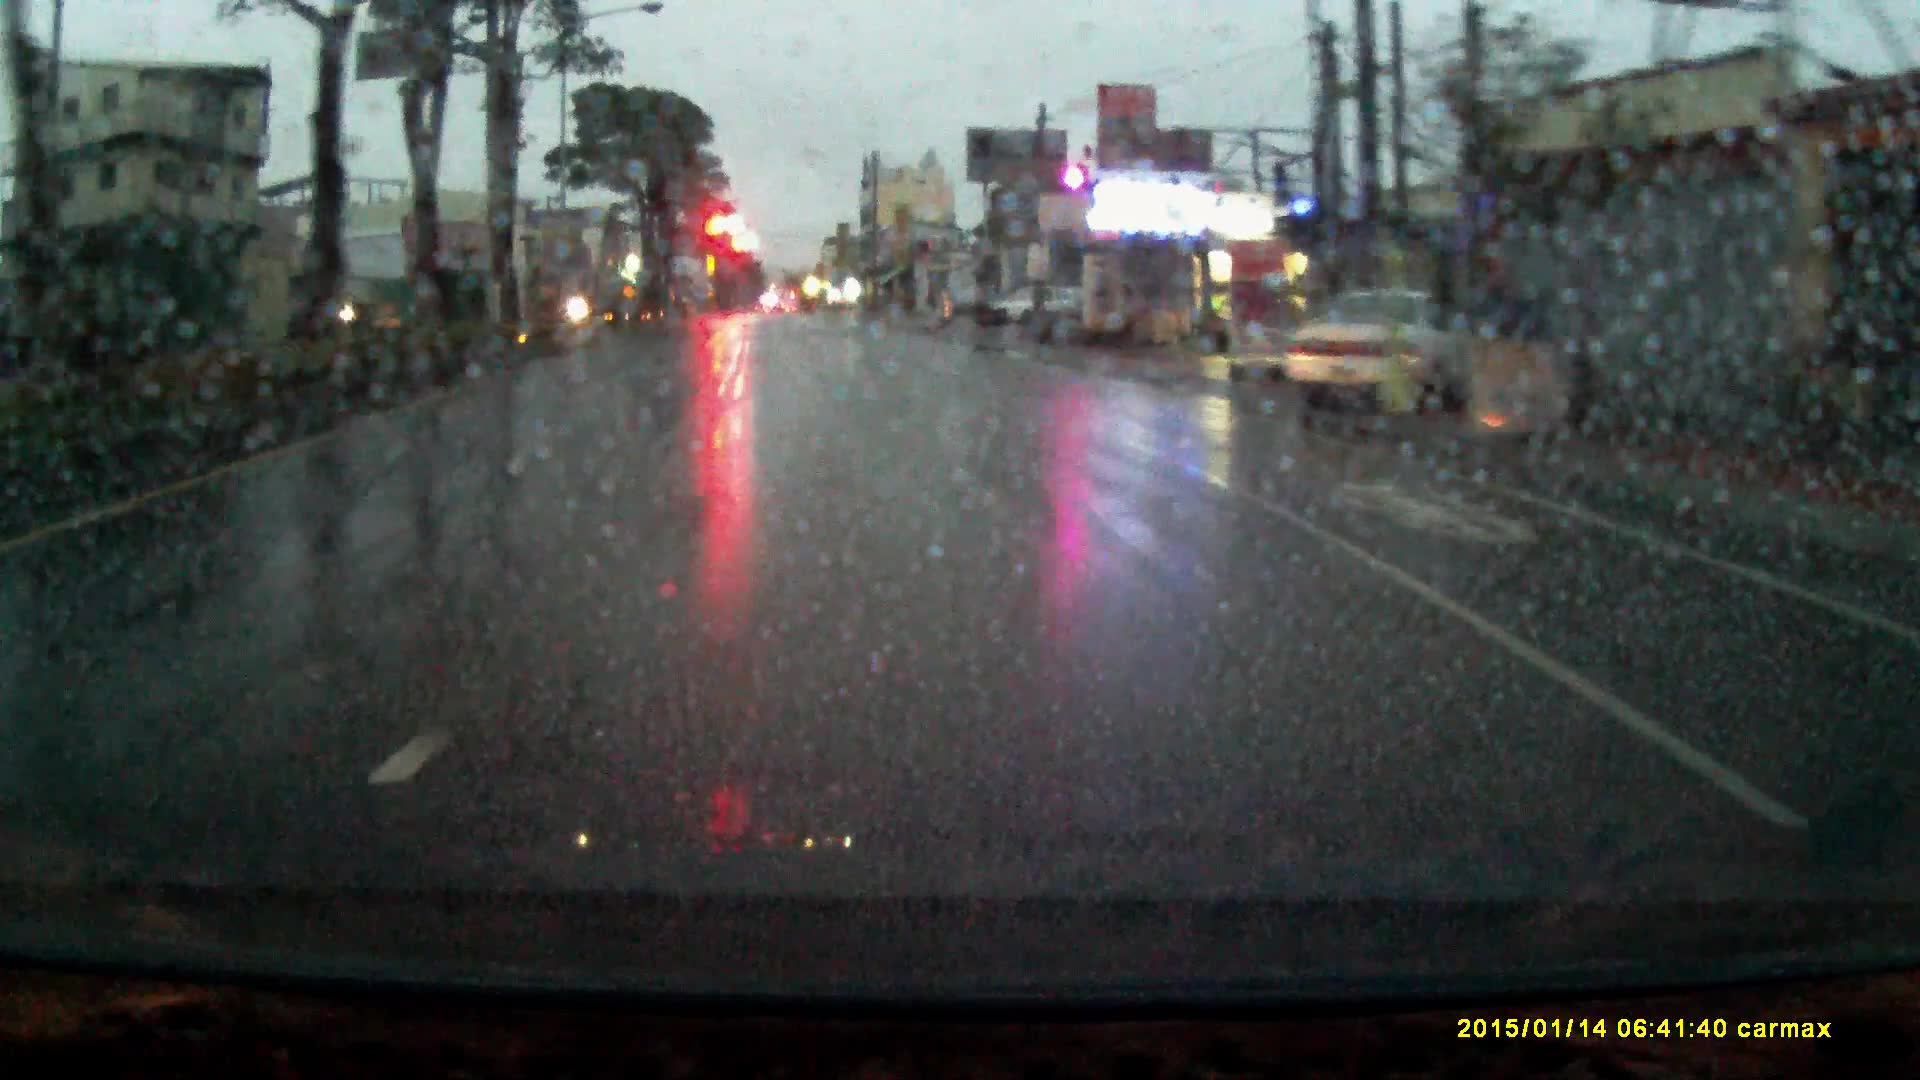vehicle: (1283, 286, 1473, 407), (986, 284, 1071, 327), (554, 290, 600, 322)
